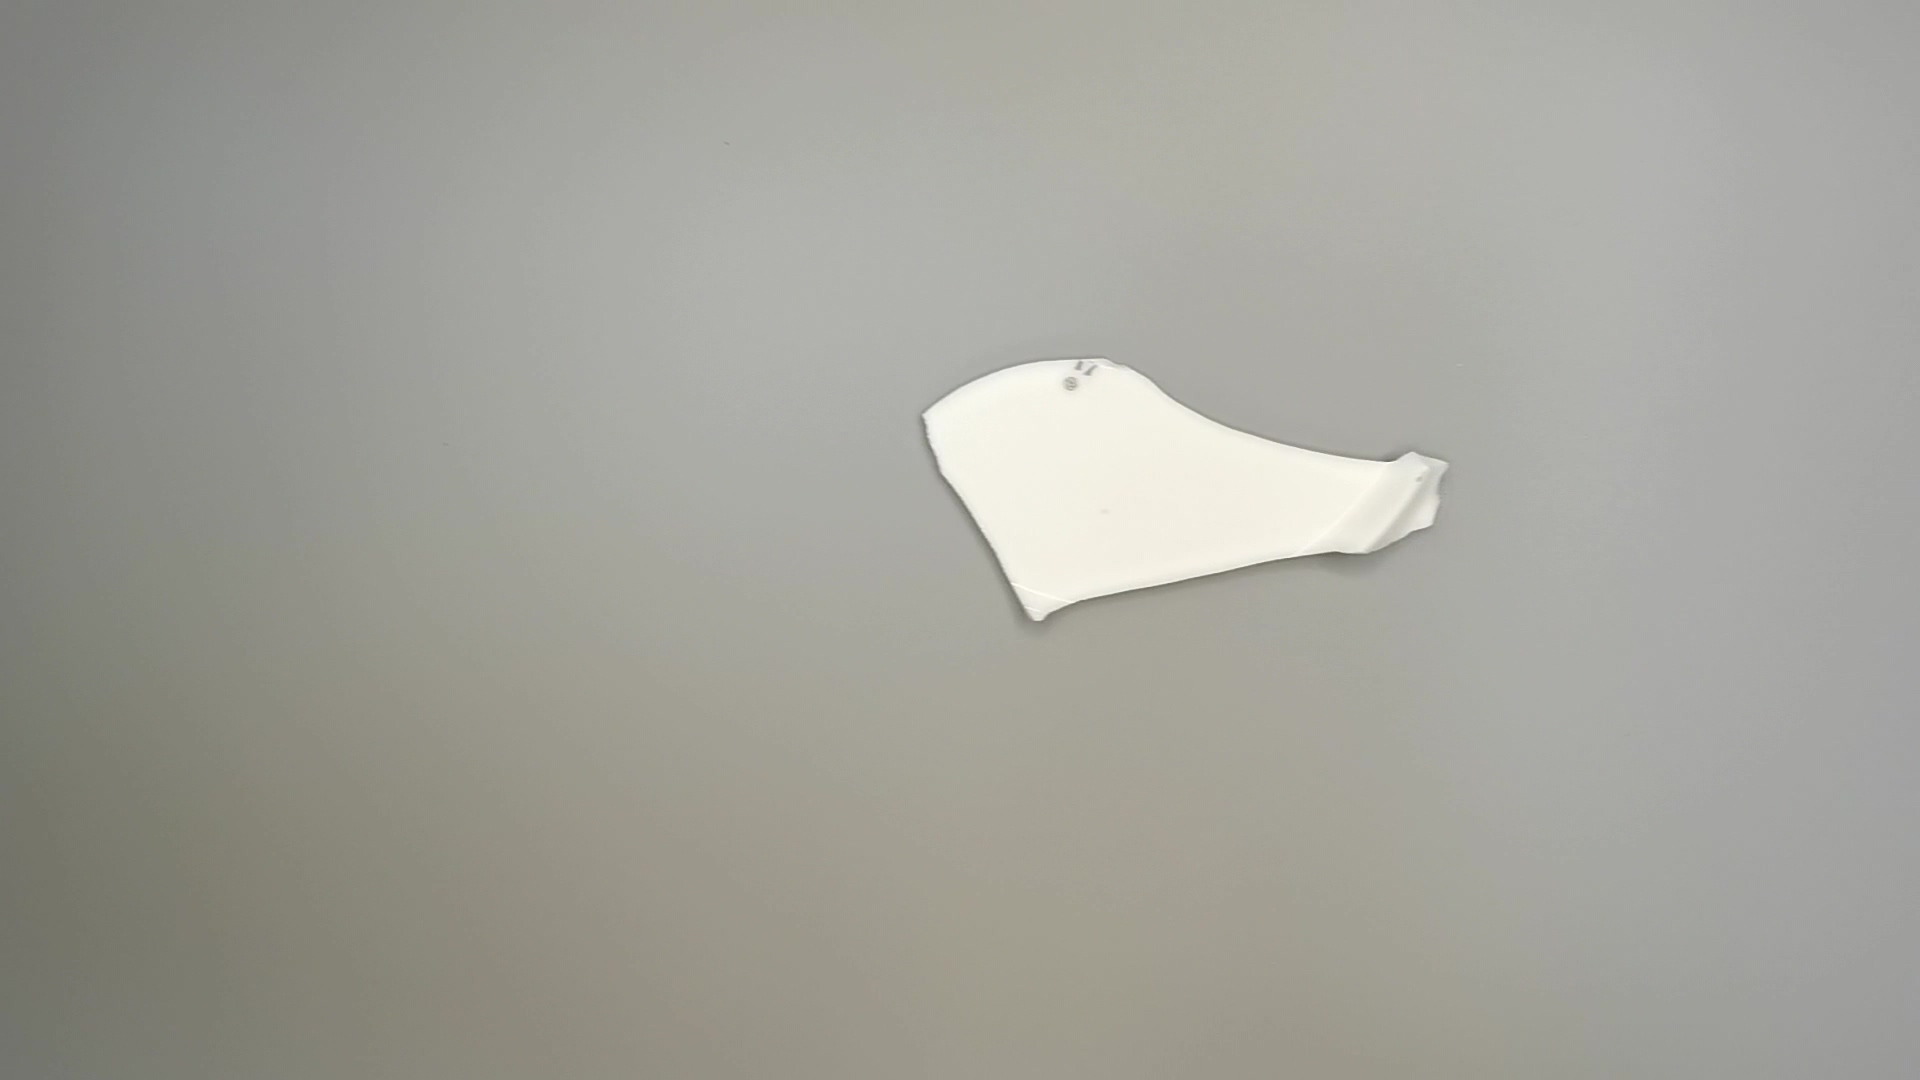ceramic: (920, 349, 1455, 645)
